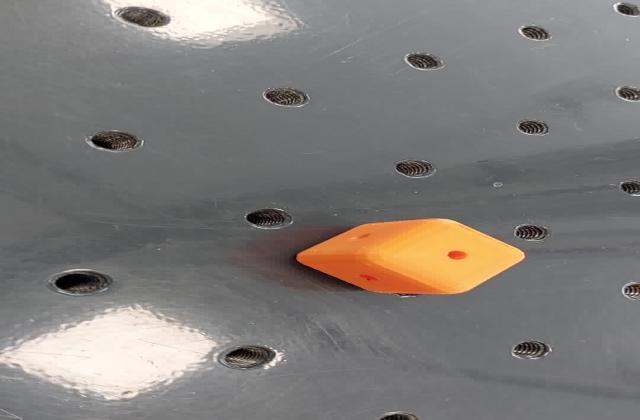cube: (289, 218, 538, 298)
